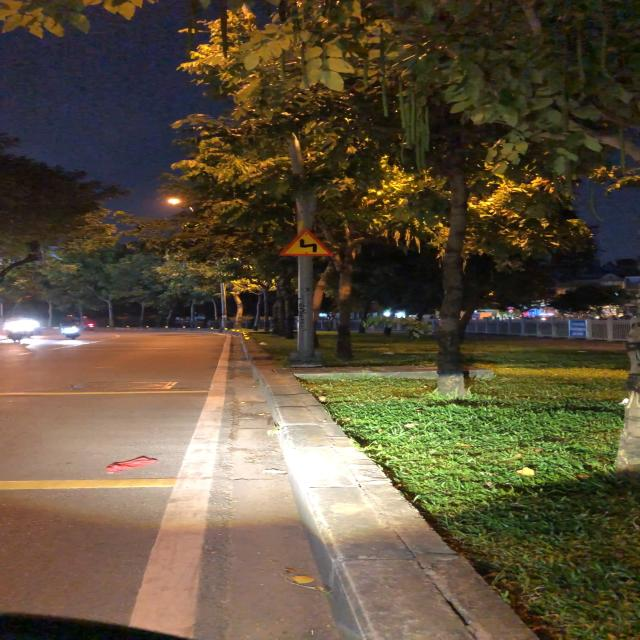Bien bao nhieu cho ngoat nguy hiem lien tiep: (277, 226, 341, 258)
